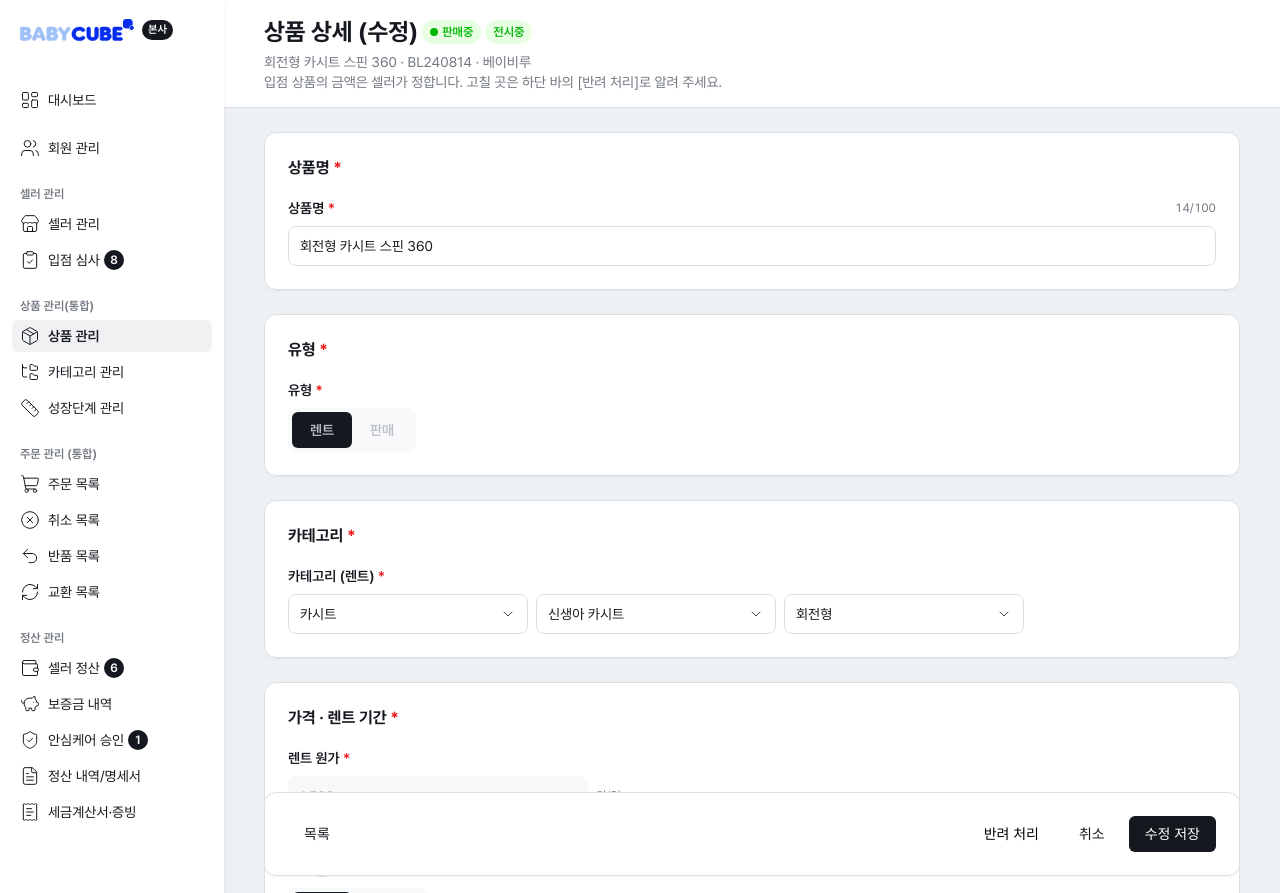
Test: ProductDetailPage (상품 상세 · 1단계) › [수정 저장] — 원본 `pfValidate` › 검사를 통과하면 알리고 목록으로 간다
This screenshot has width=1280, height=893.
Click the button "수정 저장".
click(1172, 834)  # box [1129,816,1216,852]
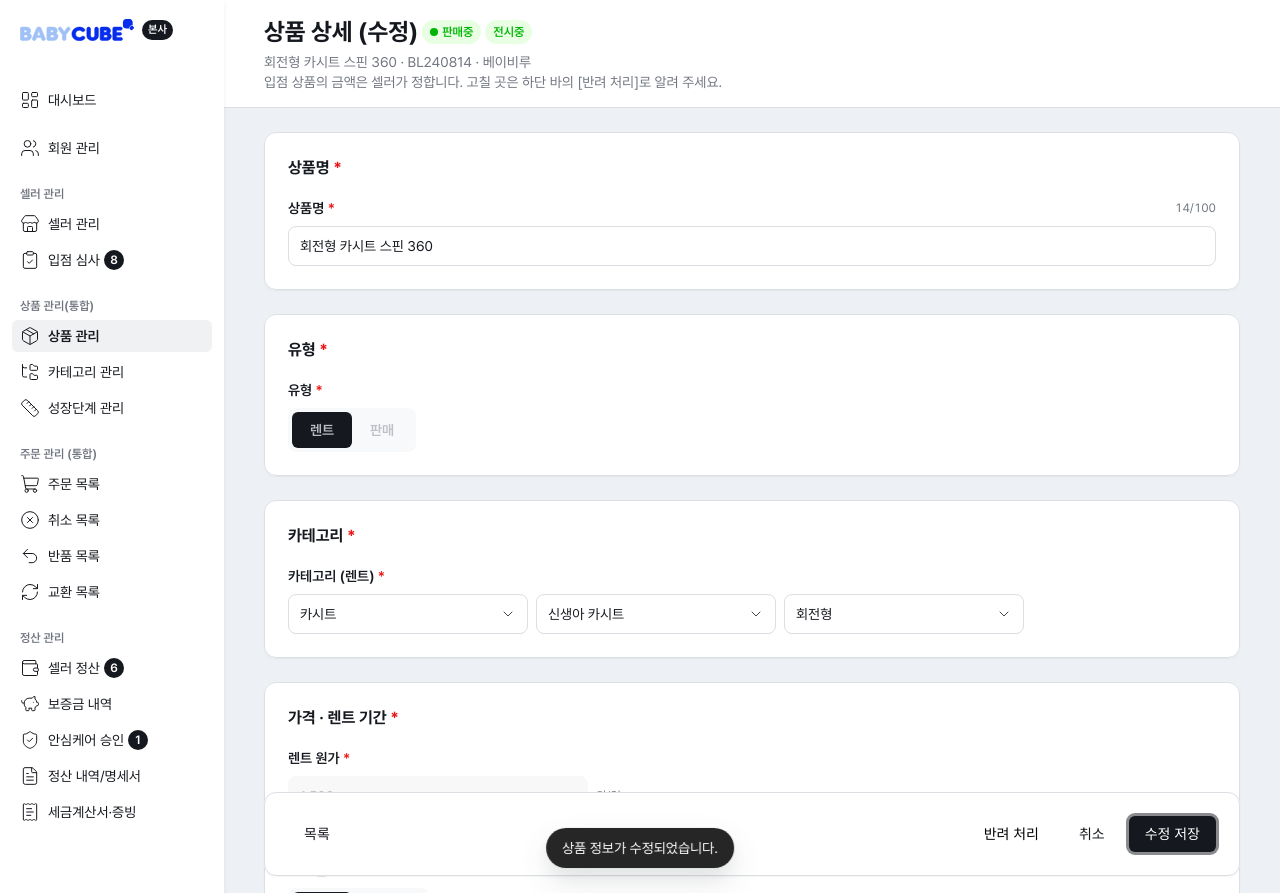
Now the text "상품 정보가 수정되었습니다." is shown, box [546,828,734,868]
